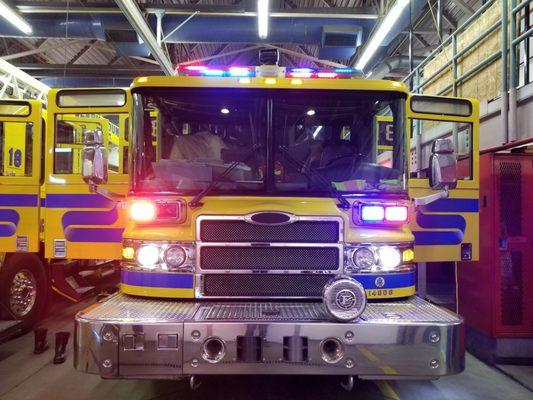firetruck_on: (44, 64, 482, 387)
